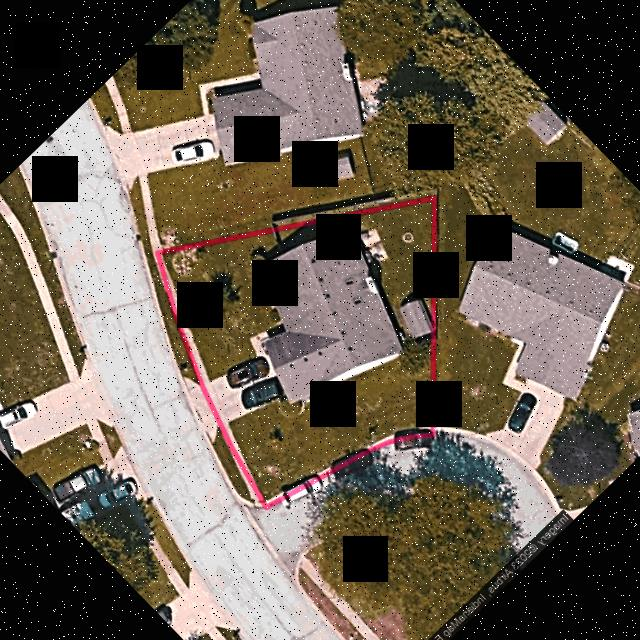Driveway: (203, 355, 286, 425)
Extra Driveway: (183, 376, 219, 444)
Extra Lawn: (146, 253, 200, 385), (213, 428, 255, 503)
Extra Sidewalk: (223, 436, 265, 516)
House: (260, 228, 401, 402)
Other: (401, 298, 431, 339), (360, 229, 388, 267), (402, 231, 414, 242)
Sidewalk: (162, 254, 210, 382), (225, 423, 254, 479), (250, 323, 285, 358)
